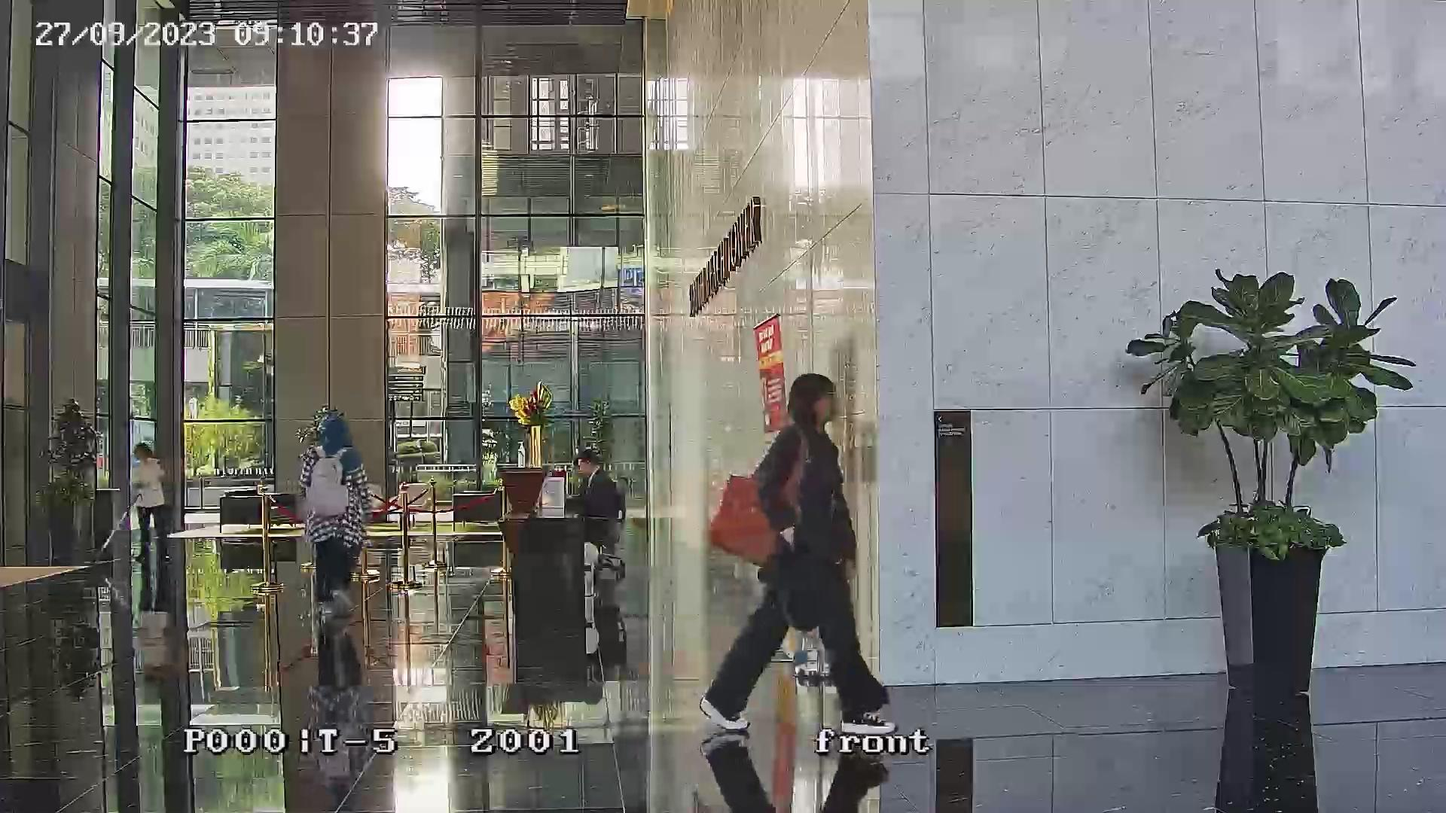person: (697, 373, 898, 751), (300, 416, 368, 628), (130, 442, 174, 565), (569, 448, 620, 538)
